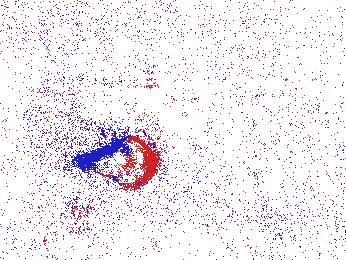flame jellyfish: (71, 135, 157, 192), (216, 198, 291, 260), (42, 196, 101, 260)
